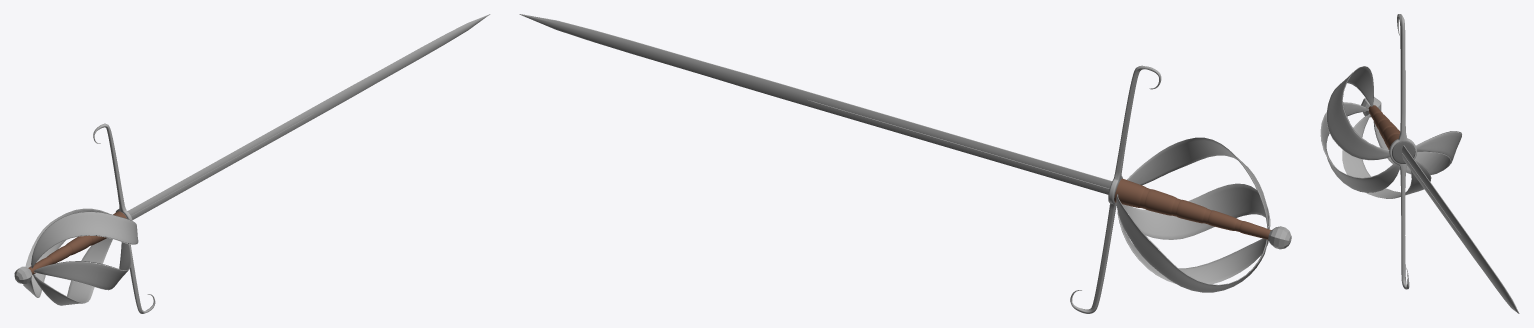
File: RapierIdle.fbx
3 renders of one model, left to right at view 1: azimuth 30°, elevation 25°; view 2: azimuth 150°, elevation 25°; view 3: azimuth 270°, elevation 25°, orthographic. The views are drawn at different scales.
Parts seen in each view (by area): view 1: pCylinder2; view 2: pCylinder2; view 3: pCylinder2.
Boxes of the visible parts, bbox=[...] form: pCylinder2: bbox=[14, 14, 490, 313]; pCylinder2: bbox=[519, 14, 1291, 313]; pCylinder2: bbox=[1320, 14, 1519, 313].
Size of the model in its own units: 2.87 by 1.03 by 0.7542.
